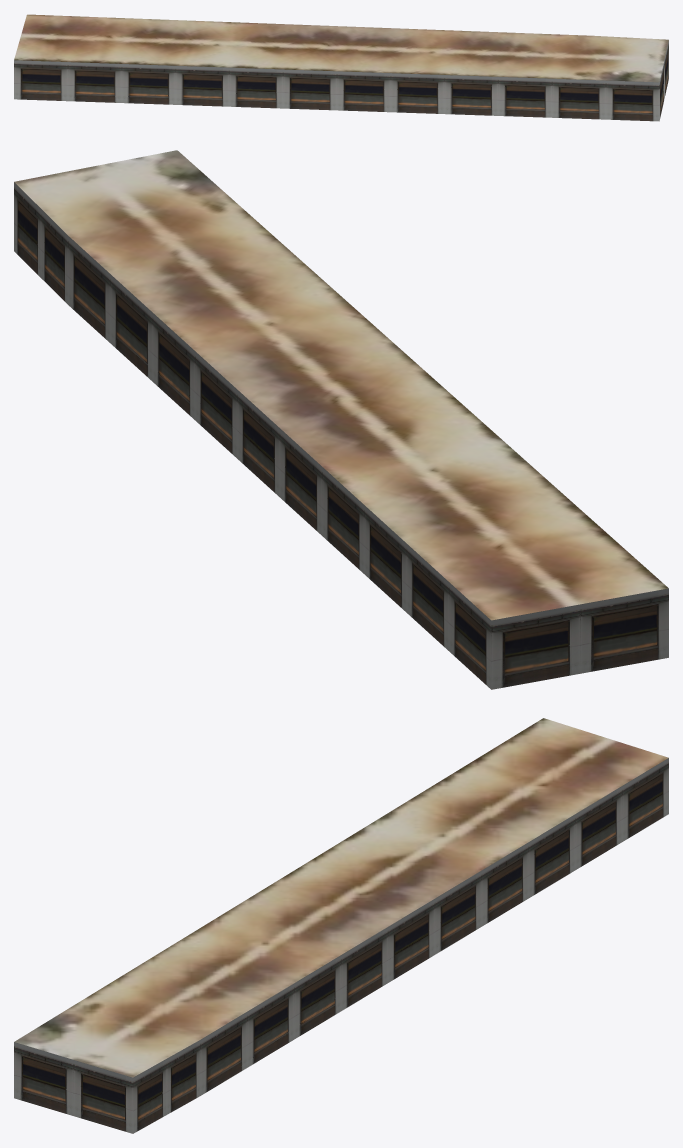
The picture shows the model from 3 angles, top to bottom: view 1: azimuth 30°, elevation 25°; view 2: azimuth 150°, elevation 25°; view 3: azimuth 270°, elevation 25°; orthographic projection. The views are drawn at different scales.
Parts seen in each view (by area): view 1: SketchUp (×3); view 2: SketchUp (×4); view 3: SketchUp (×4).
Boxes of the visible parts, left/top/right/bottom form: SketchUp (×3): left=14, top=14, right=668, bottom=121; SketchUp (×4): left=14, top=150, right=668, bottom=689; SketchUp (×4): left=14, top=718, right=668, bottom=1133.
Size of the model in its own units: 62.03 by 47.74 by 4.53.
2 materials, 2 textured.
